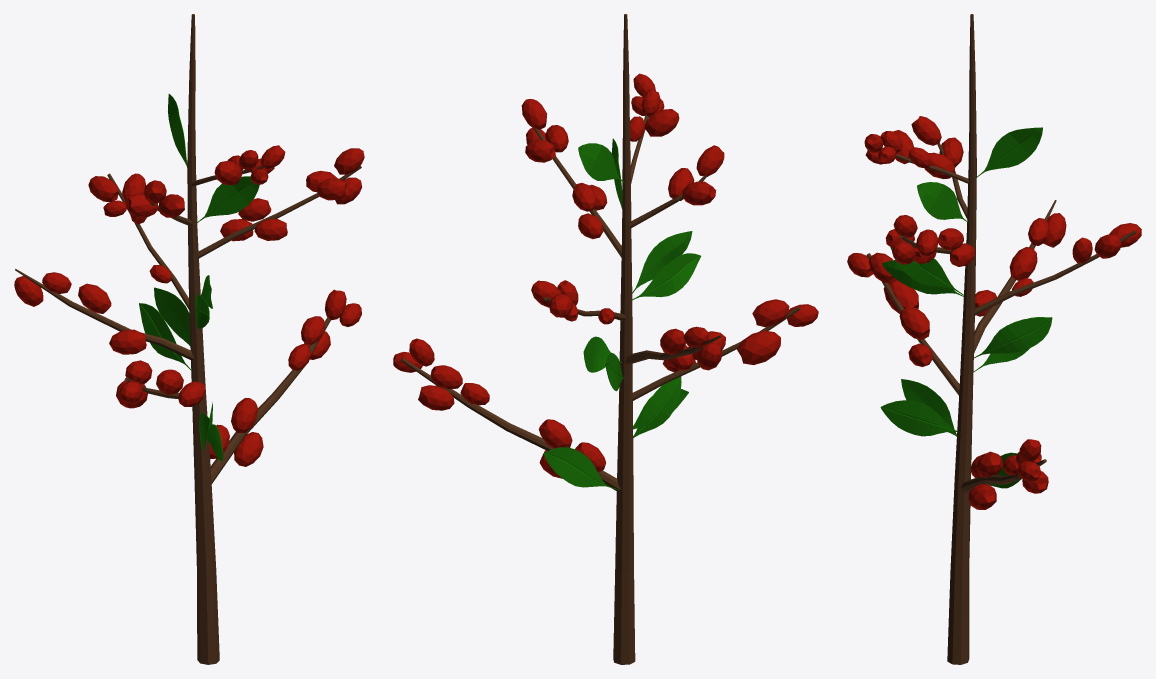
Rendered from coffea.fbx.
3 renders of one model, left to right at view 1: azimuth 30°, elevation 25°; view 2: azimuth 150°, elevation 25°; view 3: azimuth 270°, elevation 25°, orthographic.
Visible parts, largest first — view 1: Cylinder; view 2: Cylinder; view 3: Cylinder.
Part boxes in pixels (bbox=[...]): Cylinder: bbox=[14, 14, 364, 664]; Cylinder: bbox=[393, 14, 818, 664]; Cylinder: bbox=[847, 14, 1141, 664].
Bounding box in the file's own units: 349 × 639 × 266.
